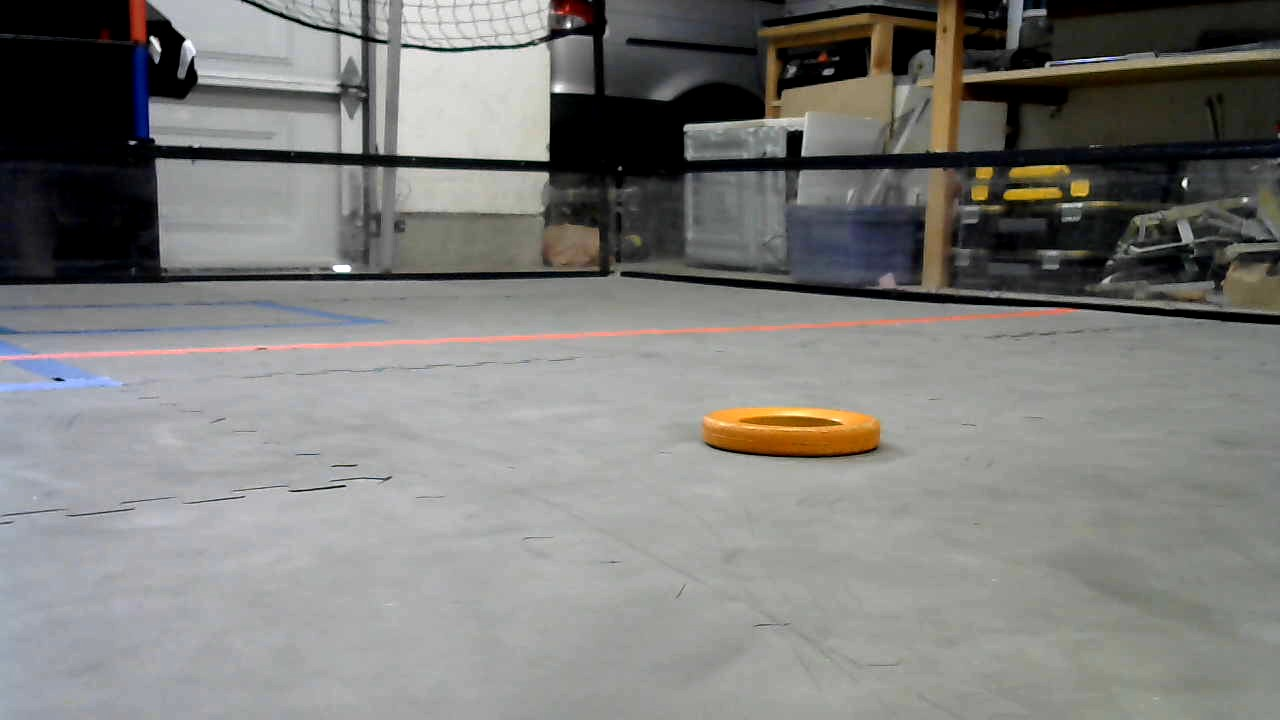OneStack: (702, 403, 879, 457)
